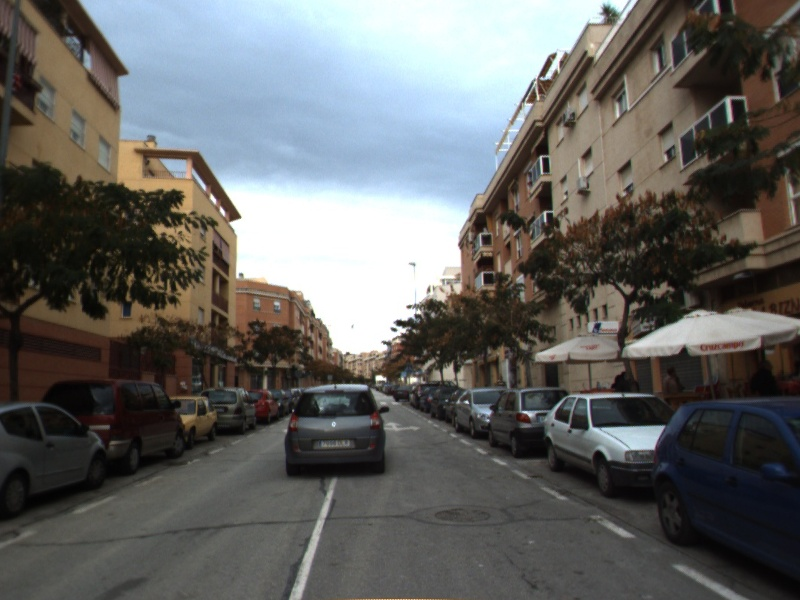STRAIGHT_LEFT_RIGHT: (381, 420, 423, 434)
